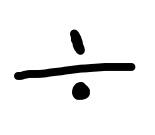div: (14, 29, 135, 100)
